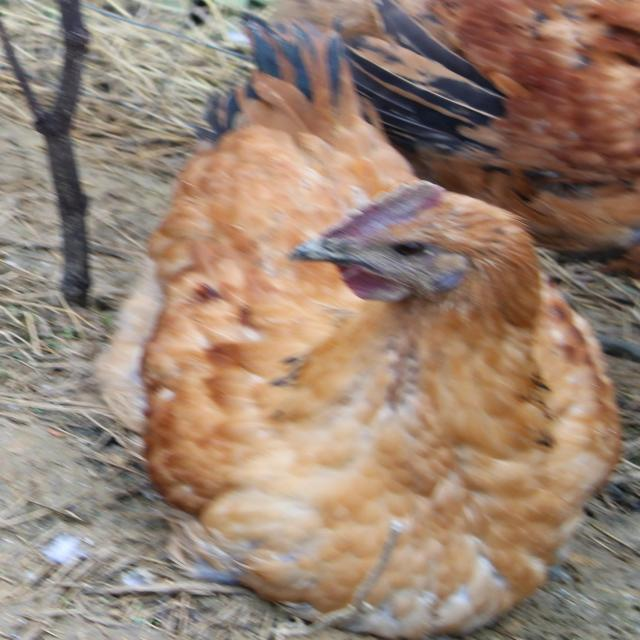hen: (98, 22, 619, 638)
